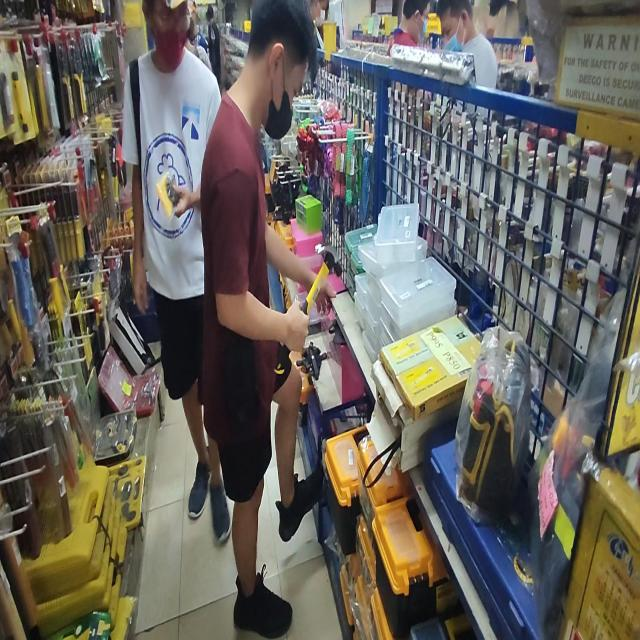hammer: (273, 241, 343, 374)
